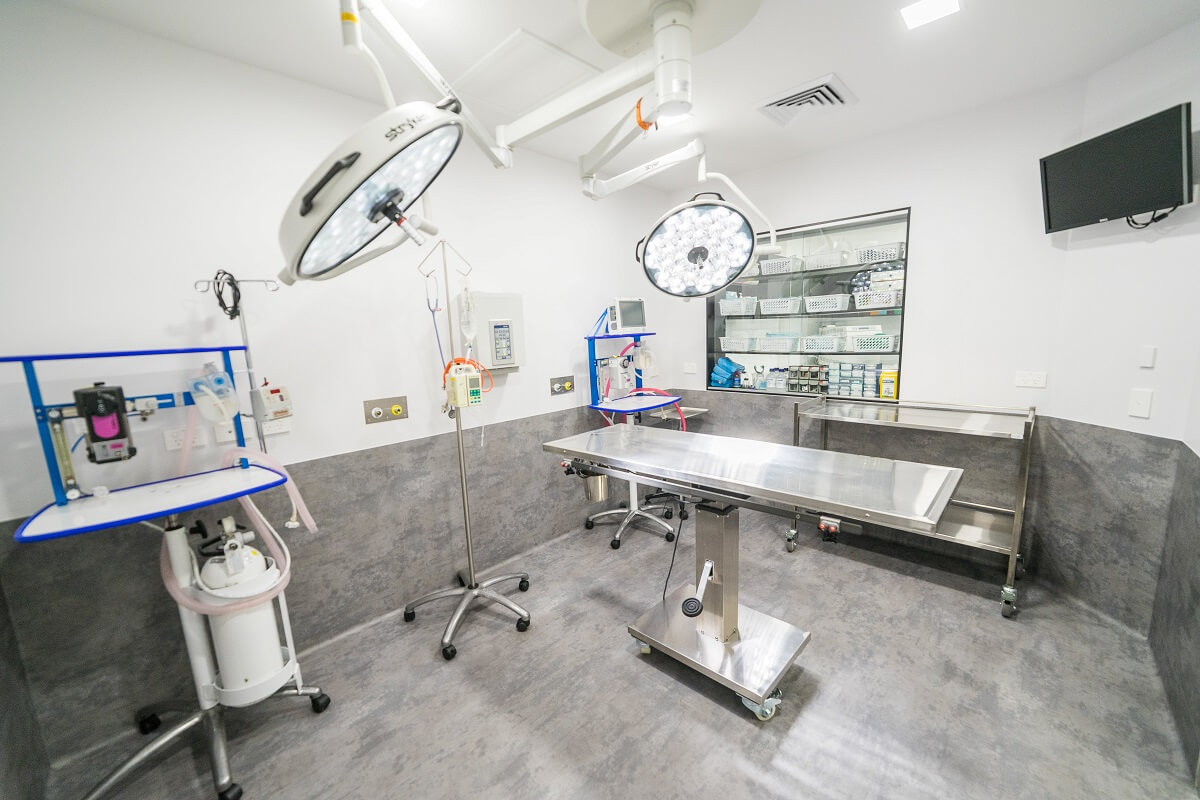TV: (1039, 101, 1189, 234)
bedside_monitor: (607, 299, 647, 335)
cabinet: (697, 208, 908, 402)
infusion_pump: (445, 365, 483, 407)
iv_pole: (417, 239, 479, 586), (183, 266, 291, 440)
operating_bed: (542, 423, 964, 723)
surgical_light: (257, 92, 480, 282), (632, 187, 756, 304)
utility_cart: (23, 421, 364, 790), (784, 391, 1037, 619), (577, 328, 689, 539), (644, 406, 708, 524)
